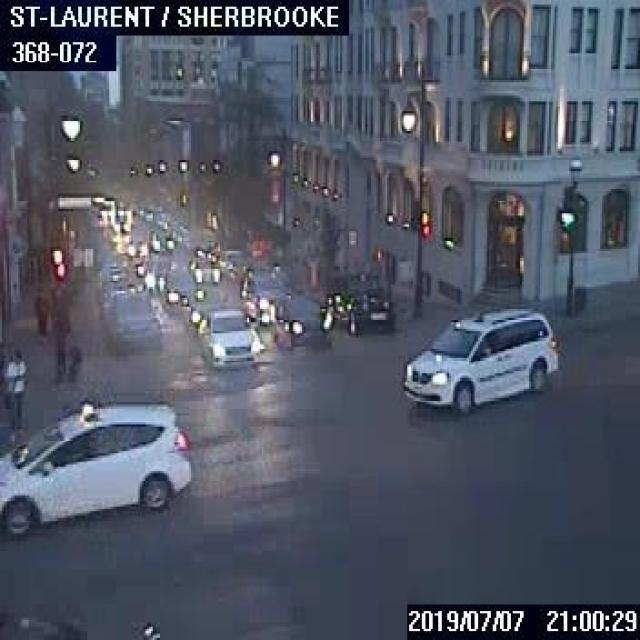pedestrian: (4, 352, 27, 426), (49, 310, 69, 372)
vehicle: (0, 400, 191, 536), (402, 306, 558, 411), (0, 609, 160, 638), (95, 290, 159, 350), (329, 274, 392, 334), (198, 308, 259, 362), (272, 293, 330, 347), (242, 269, 292, 322), (161, 265, 204, 310), (188, 248, 219, 282), (142, 254, 172, 288)
